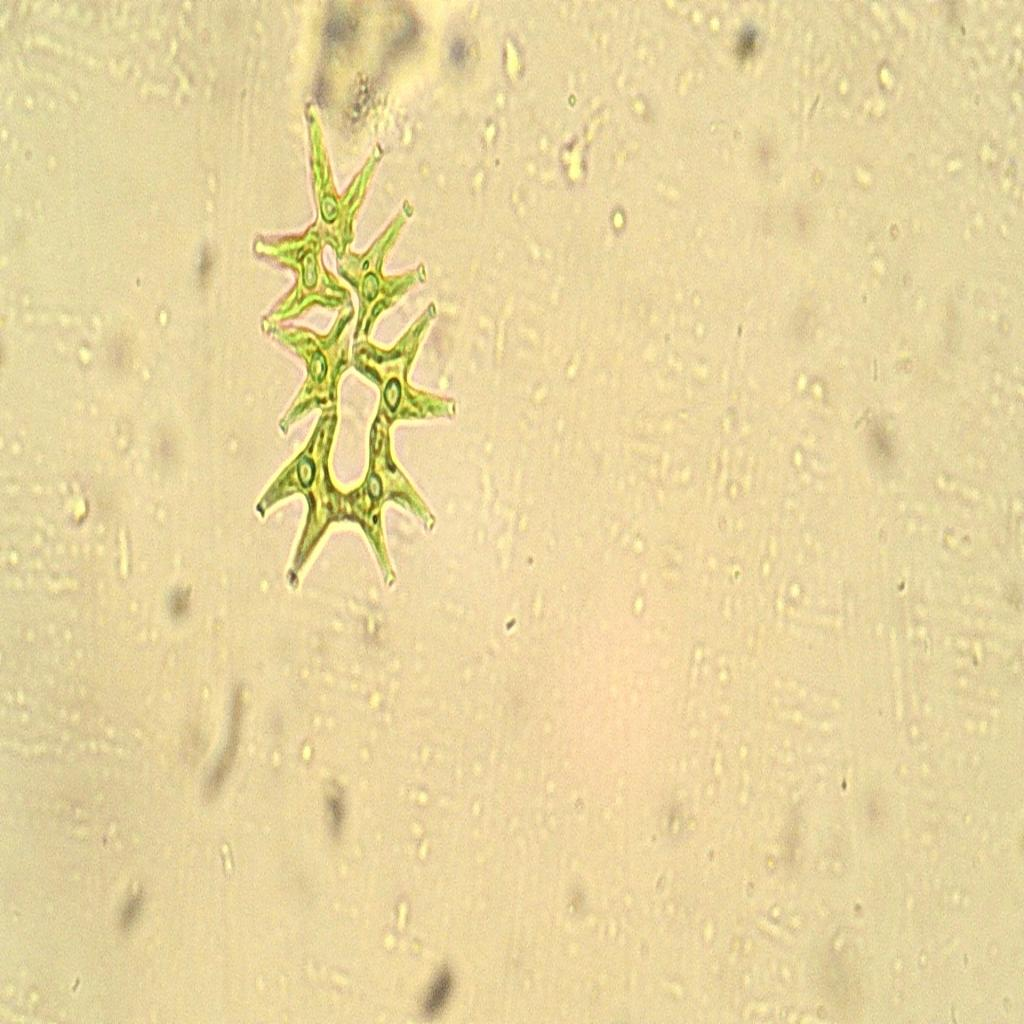Pediastrum_CFI: (230, 77, 473, 629)
